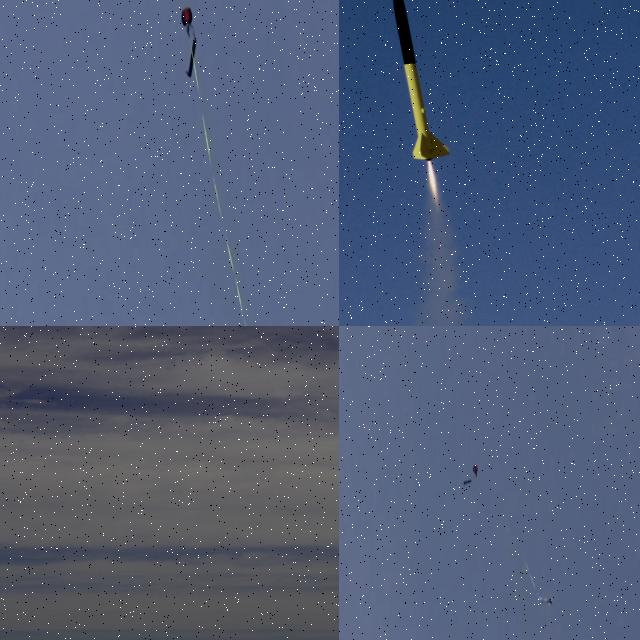Rocket: (390, 0, 453, 162), (539, 598, 553, 605)
